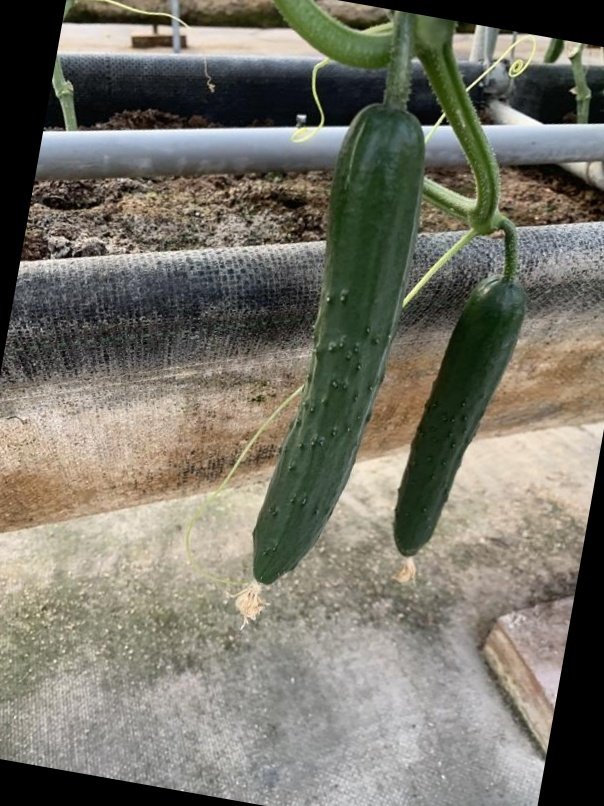mature: (247, 105, 428, 593), (390, 277, 531, 561)
